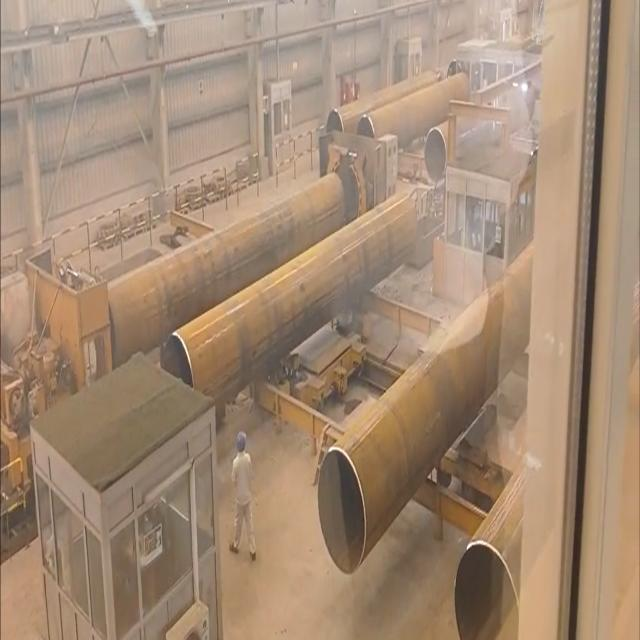warningzone: (253, 284, 448, 432), (427, 345, 527, 512)
